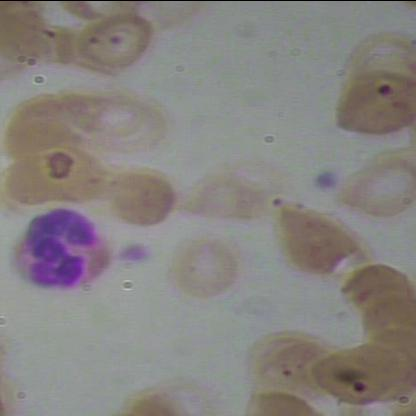Platelets: (112, 239, 152, 268), (303, 166, 343, 194)
RBC: (276, 199, 368, 277), (308, 333, 396, 410), (326, 68, 416, 140), (180, 159, 266, 229), (78, 3, 164, 73), (6, 140, 92, 210), (248, 330, 334, 400), (172, 230, 246, 304), (108, 162, 182, 236), (341, 153, 415, 225), (98, 99, 172, 157), (10, 90, 79, 140), (0, 8, 58, 63), (360, 296, 415, 343)
WBC: (7, 200, 111, 301)
